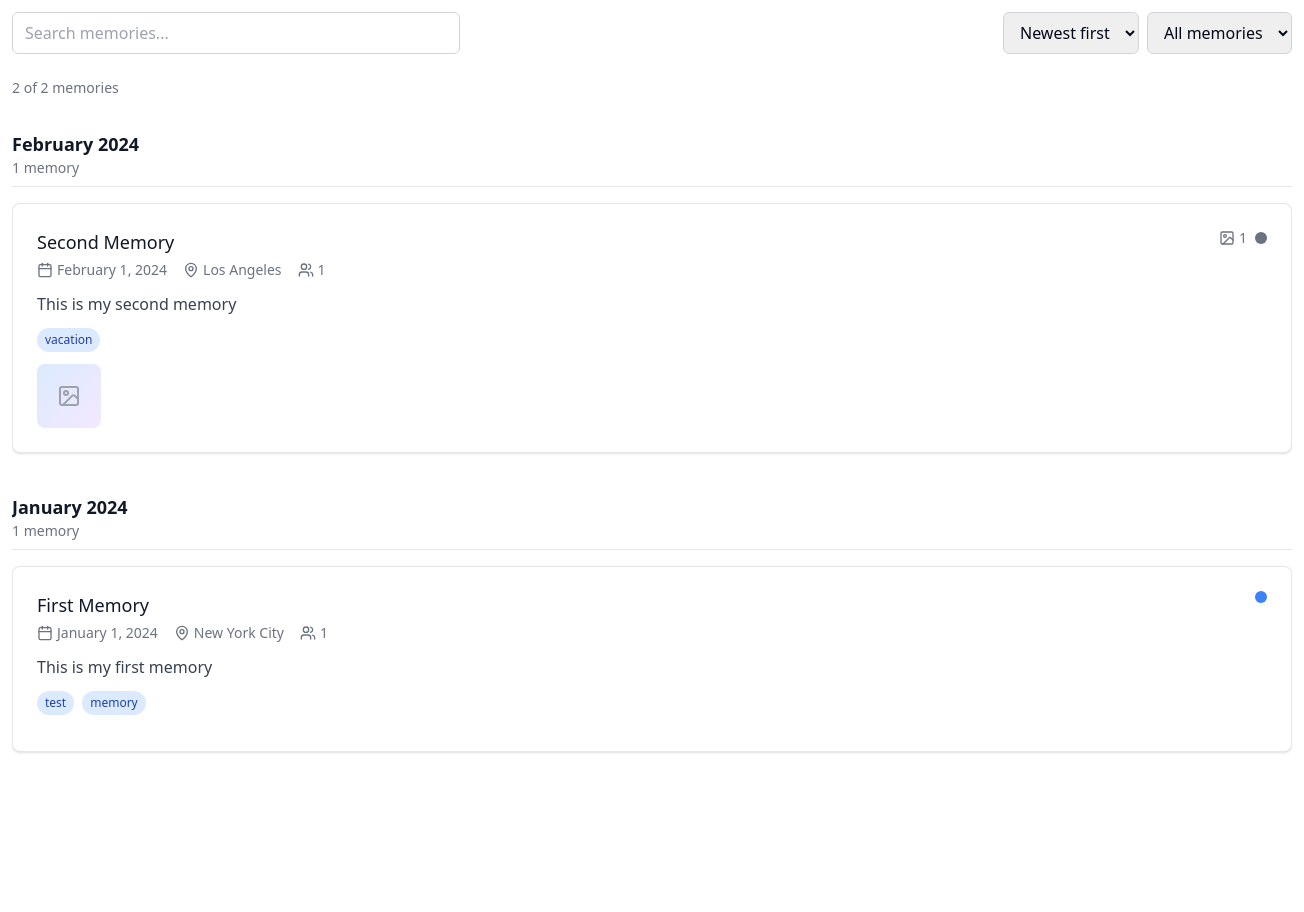
Timeline Component › filters memories by search term
Type "first" into the field with placeholder "Search memories...". click: [236, 33]
box: [12, 12, 460, 54]
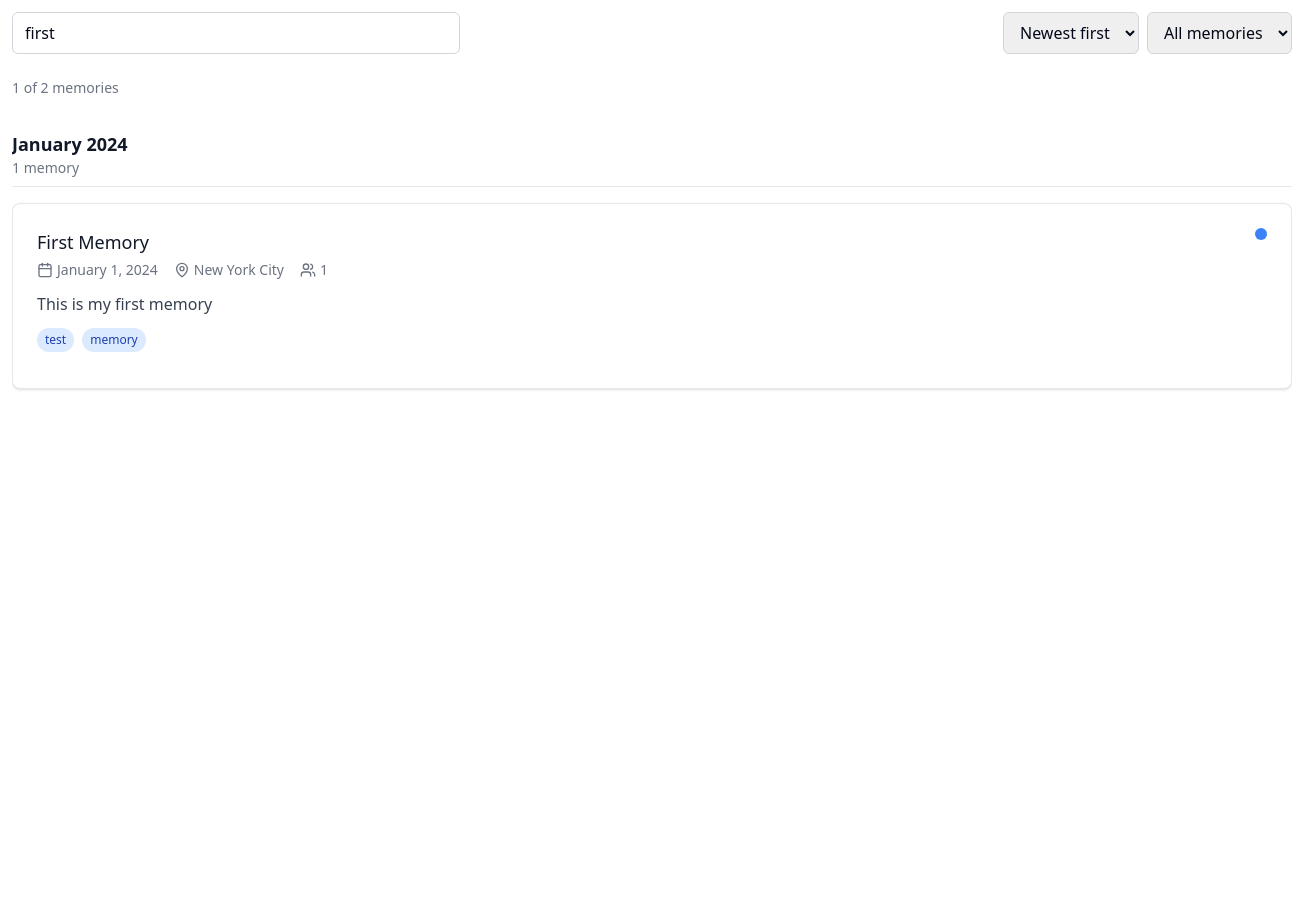
expect the heading "First Memory" is shown: met, box [37, 230, 149, 254]
expect the heading "Second Memory" is gone: met
expect the text "1 of 2 memories" is shown: met, box [12, 78, 119, 97]
